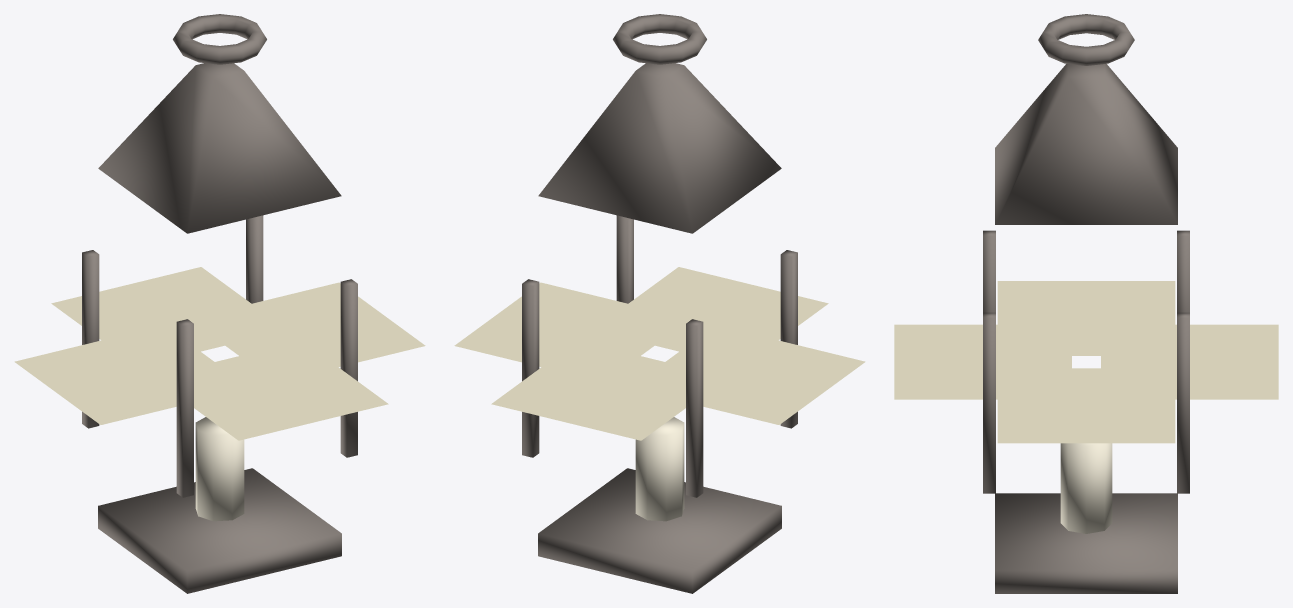
Rendered from oil_lantern.fbx.
The picture shows the model from 3 angles, left to right: view 1: azimuth 30°, elevation 25°; view 2: azimuth 150°, elevation 25°; view 3: azimuth 270°, elevation 25°; orthographic projection. The views are drawn at different scales.
Visible parts, largest first — view 1: oil_lantern; view 2: oil_lantern; view 3: oil_lantern.
Boxes of the visible parts, x1,y1,x2,y2 form: oil_lantern: (14, 14, 425, 593); oil_lantern: (454, 14, 865, 593); oil_lantern: (894, 14, 1278, 593).
Bounding box in the file's own units: 0.119 × 0.1786 × 0.119.
